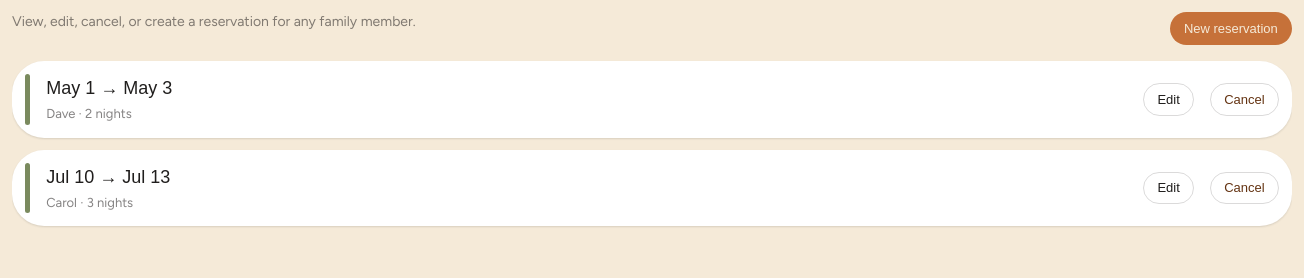
Test: CAP-025 Manage all reservations › CAP-025 · A failed cancellation is shown on that stay
Expected: the text "View, edit, cancel, or create a reservation for any family member." is shown, [12,12,416,32]
Click the button "Cancel" in the row of "Jul 10 → Jul 13": click(1244, 188) [1210,172,1279,204]
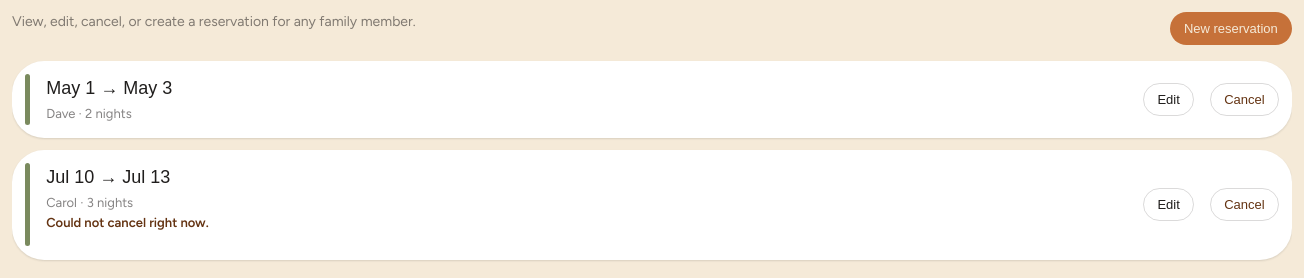
Expected: the element with class "rowcard" does not show "Could not cancel right now."
Expected: the element with class "rowcard" shows "Could not cancel right now.", [46,215,209,230]
